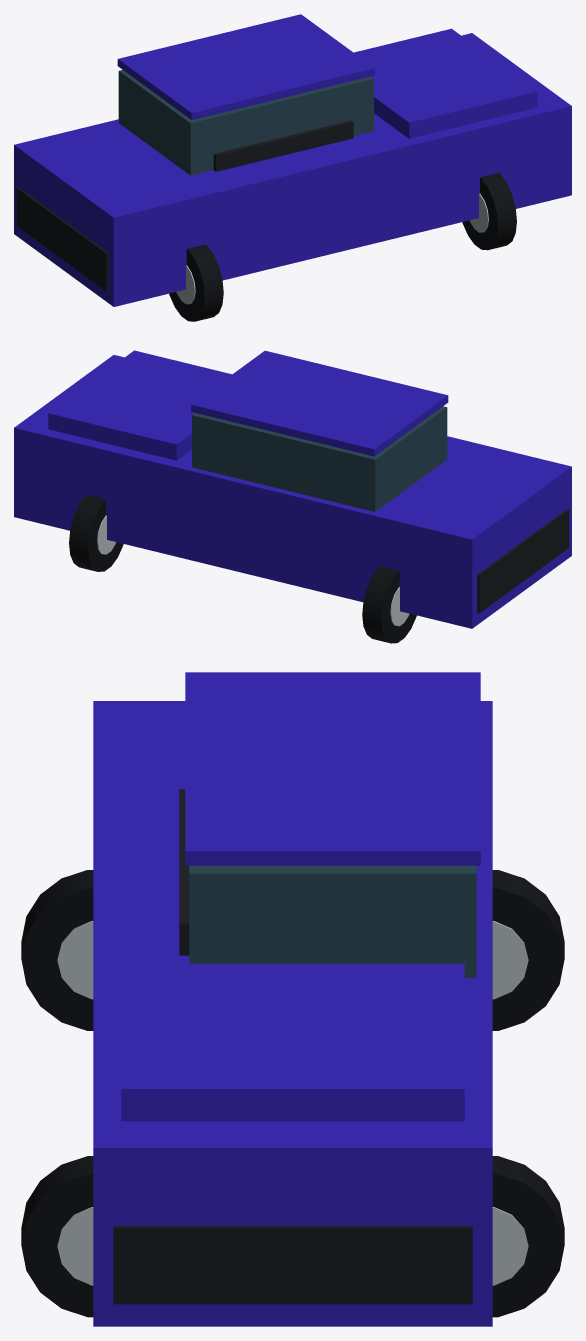
File: ford_transit_connect.glb
3 renders of one model, top to bottom at view 1: azimuth 30°, elevation 25°; view 2: azimuth 150°, elevation 25°; view 3: azimuth 270°, elevation 25°, orthographic. The views are drawn at different scales.
Parts seen in each view (by area): view 1: body, roof, hood, cabin, rear_bumper, rear_right_wheel, front_right_wheel, interior; view 2: body, roof, cabin, hood, rear_bumper, rear_left_wheel, front_left_wheel; view 3: body, roof, hood, cabin, front_bumper, front_left_wheel, front_right_wheel, rear_left_wheel, rear_right_wheel, interior.
Part boxes in pixels (x1,y1,x2,y2): body: (14,33,571,306); roof: (117,14,374,119); hood: (354,28,537,138); cabin: (118,70,373,175); rear_bumper: (16,187,108,291); rear_right_wheel: (169,244,223,321); front_right_wheel: (462,173,516,250); interior: (213,120,353,171); body: (14,355,571,628); roof: (191,350,448,456); cabin: (192,406,447,511); hood: (48,350,231,460); rear_bumper: (477,509,569,613); rear_left_wheel: (362,566,416,643); front_left_wheel: (69,494,123,571); body: (93,701,492,1326); roof: (185,672,480,865); hood: (121,963,464,1121); cabin: (189,865,476,977); front_bumper: (113,1226,472,1304); front_left_wheel: (492,1156,564,1317); front_right_wheel: (21,1156,93,1317); rear_left_wheel: (492,870,564,1030); rear_right_wheel: (21,870,93,1030); interior: (179,789,189,955).
Bounding box in the file's own units: 5.35 × 2.03 × 2.72.
